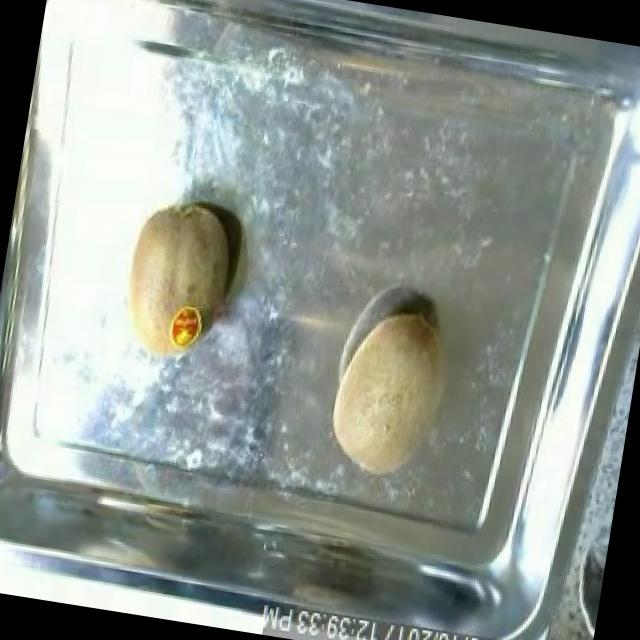Fruit: (316, 291, 477, 494), (105, 187, 253, 378)
